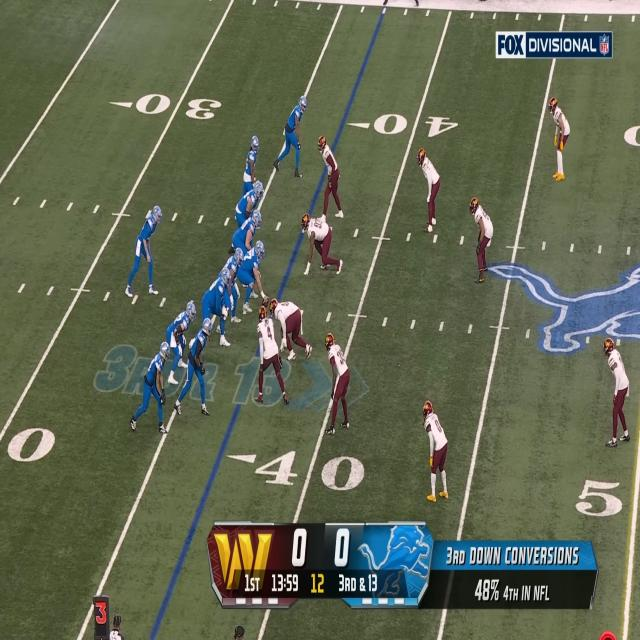Ball: (261, 296, 270, 306)
